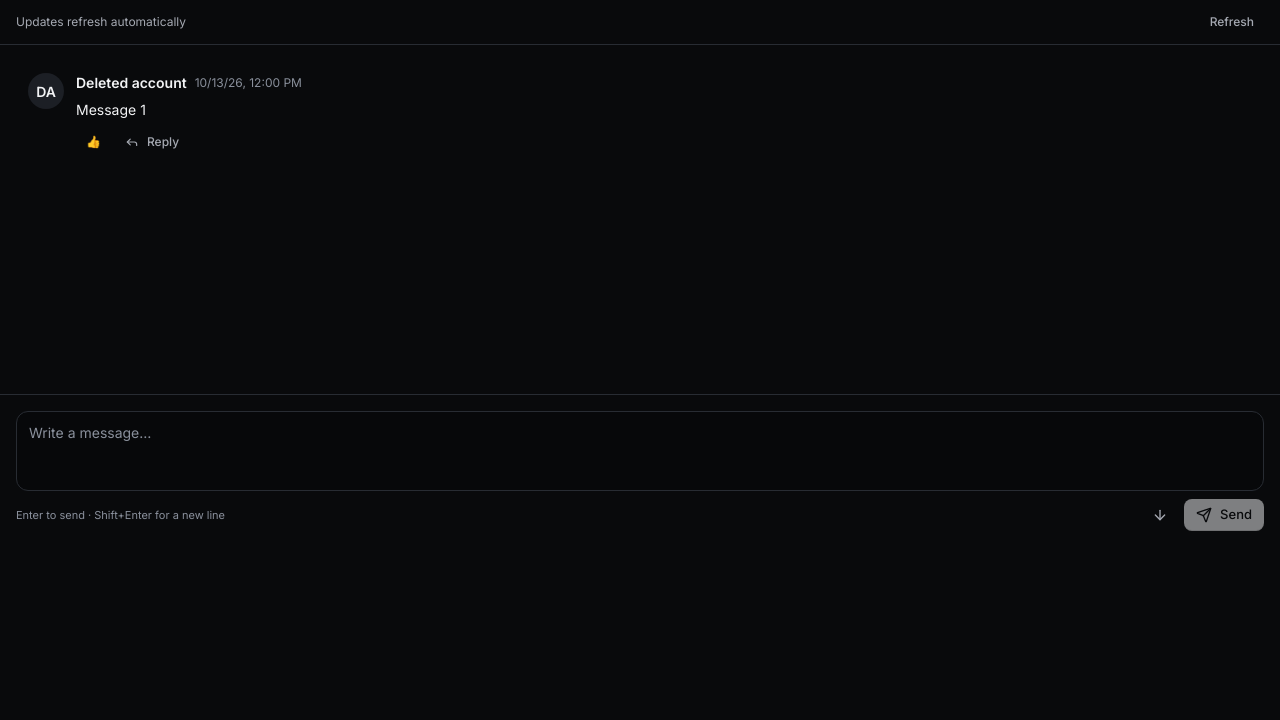
it: chat persistence and catch-up › keeps the draft after a failed send and reuses its idempotency key on retry
Expected: the text "Message 1" is shown, [76,101,146,118]
Type "Keep this draft" into the text box labelled "message". click: (640, 451)
box: [16,411,1264,491]
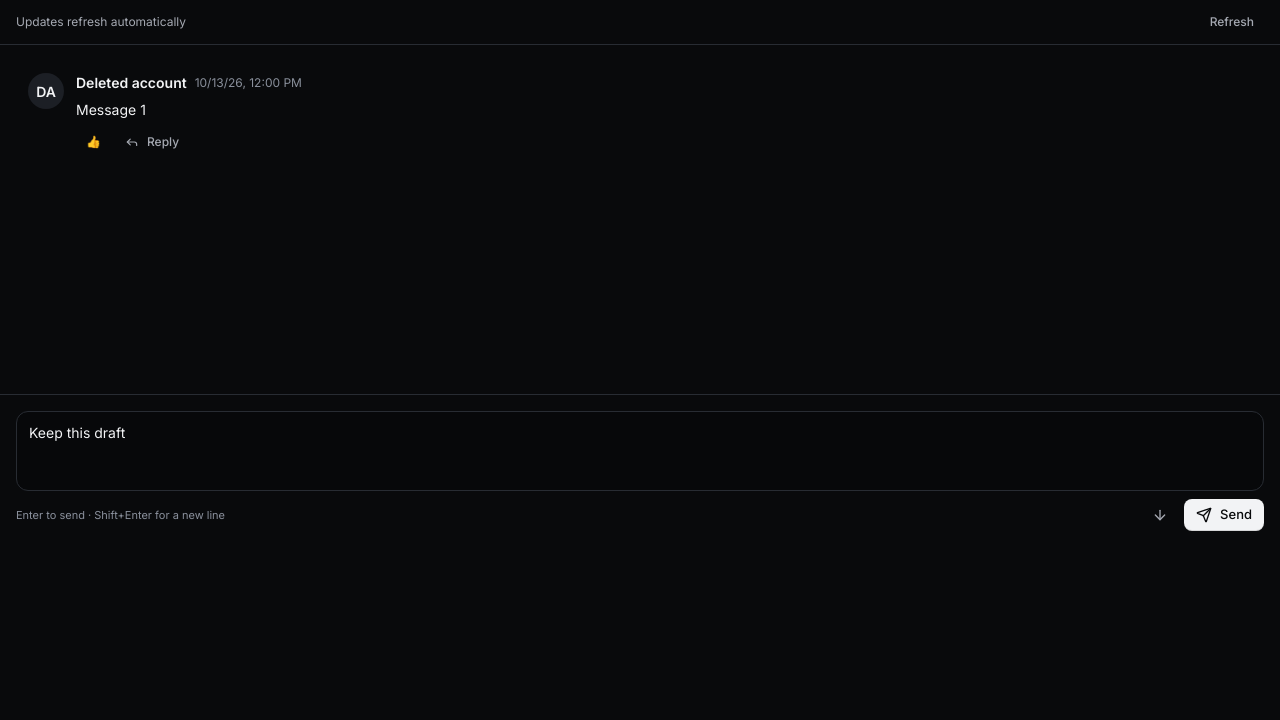
Click the button "Send". click: (1224, 515)
box: [1184,499,1264,531]
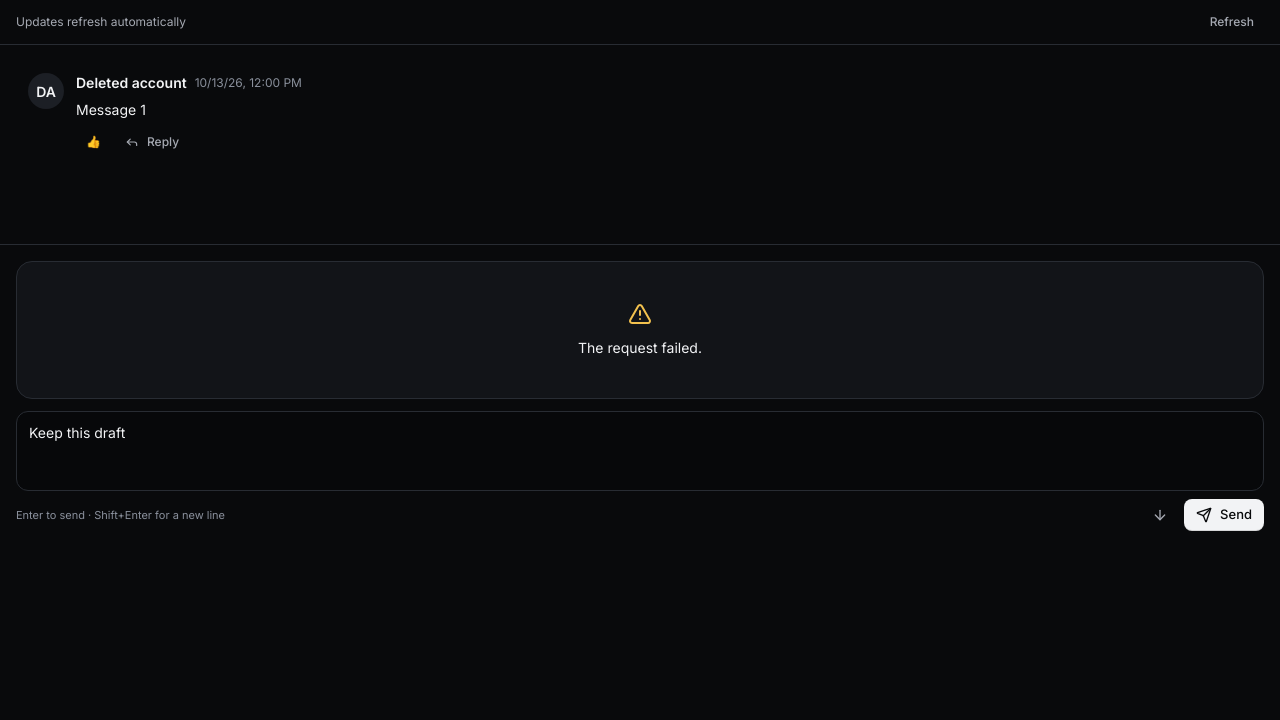
Expected: the text "The request failed." is shown, [578,338,702,358]
Click the button "Send". click: (1224, 515)
box: [1184,499,1264,531]
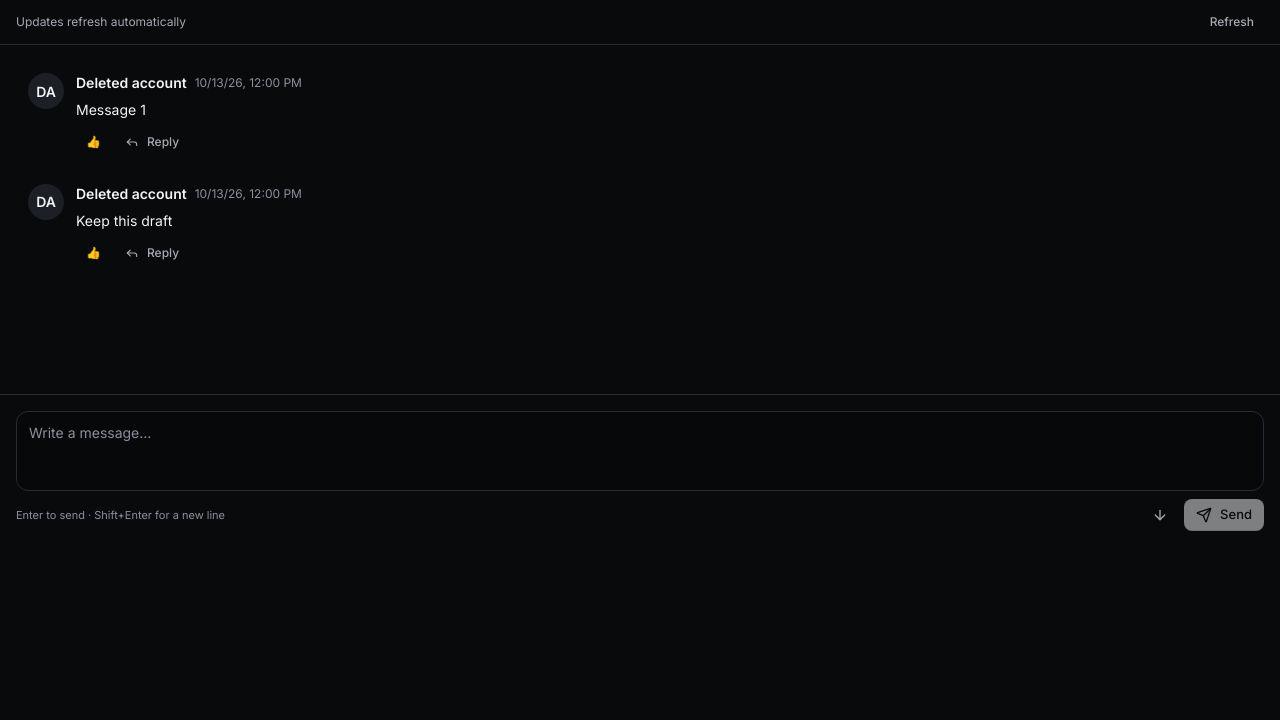
Expected: the text "Keep this draft" is shown, [76,212,172,229]
Expected: the text box "Keep this draft" is empty, [16,411,1264,491]
